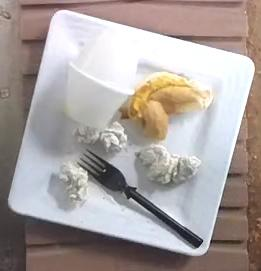pizza_crust: (120, 72, 213, 139)
